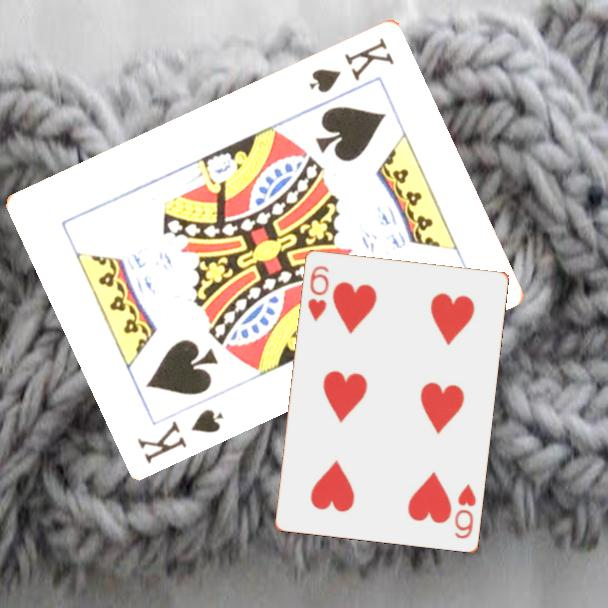h06: (304, 261, 332, 324), (451, 480, 479, 541)
s13: (133, 405, 226, 467), (305, 34, 397, 96)
